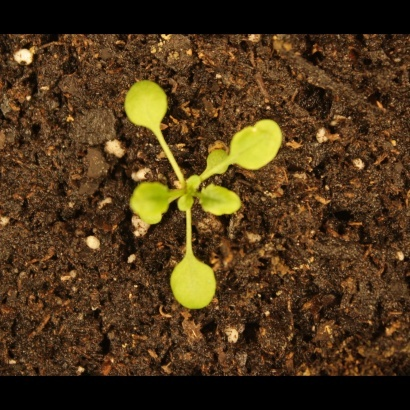leaf: (116, 79, 185, 141), (166, 242, 224, 315), (229, 118, 286, 174), (126, 175, 182, 226), (196, 182, 244, 219), (198, 148, 235, 179), (175, 193, 198, 216), (182, 173, 205, 196)
